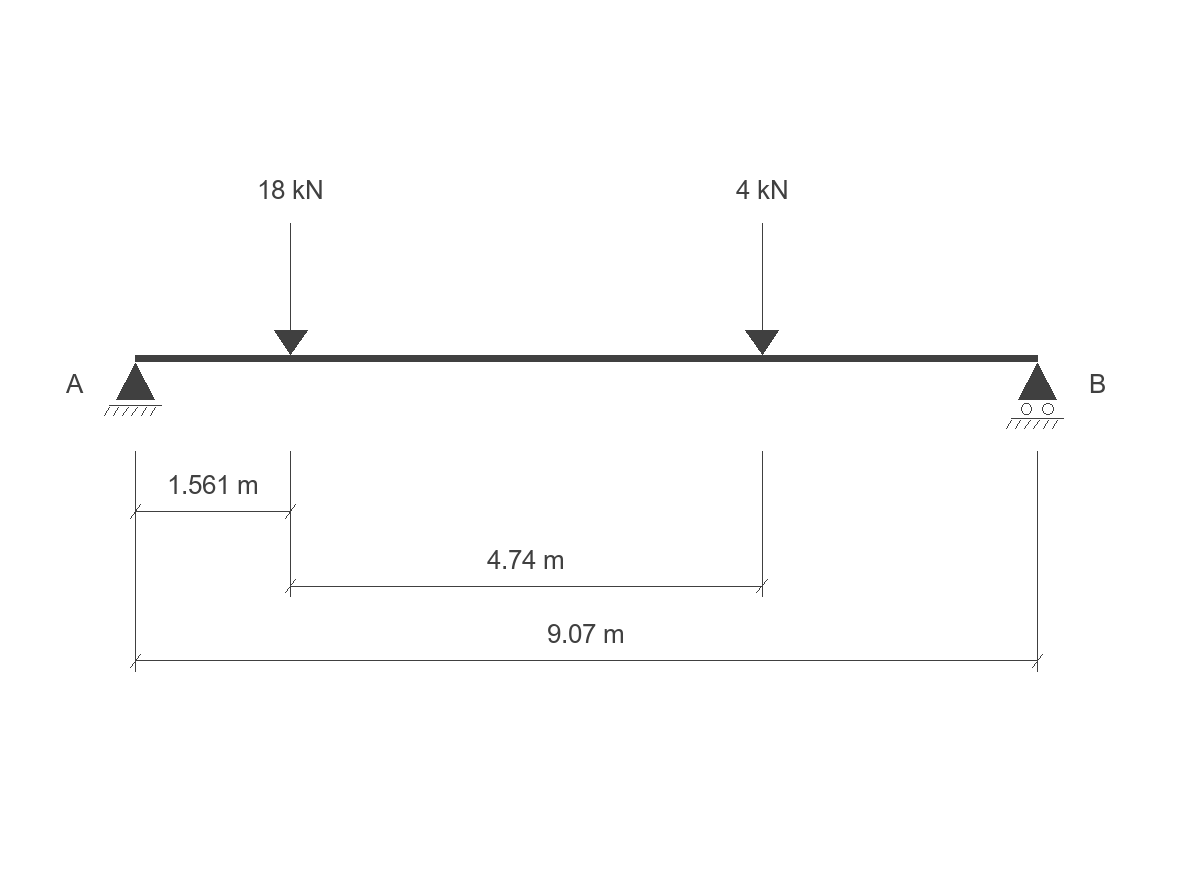pin_support: (104, 363, 162, 416)
point_load: (274, 223, 308, 355), (745, 223, 779, 355)
roller_support: (1006, 363, 1064, 429)
